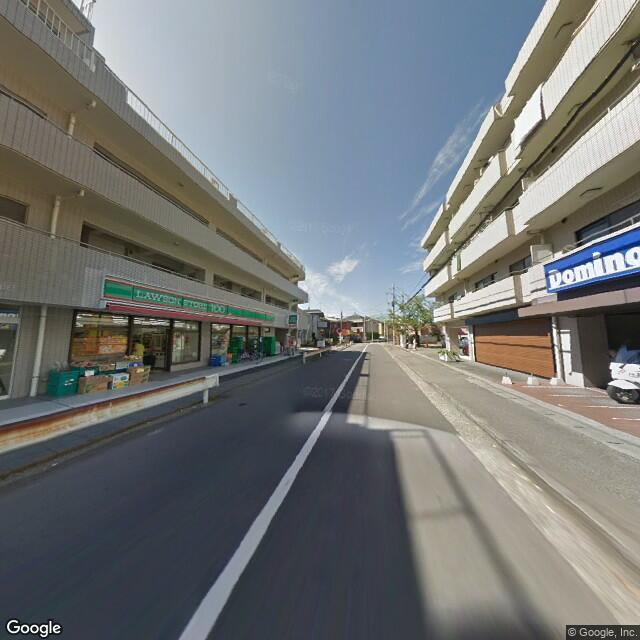lawson: (101, 274, 275, 327)
